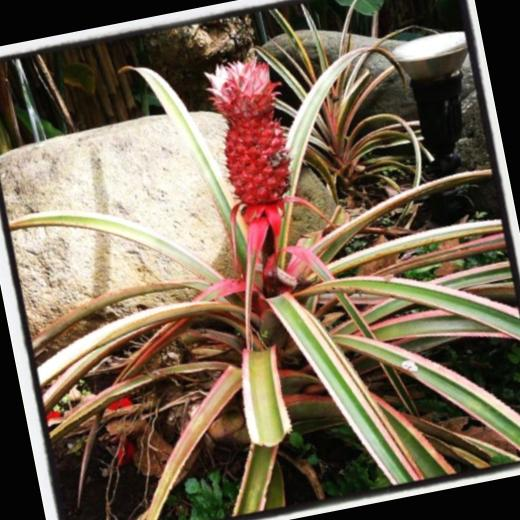Mango: (198, 51, 304, 213)
